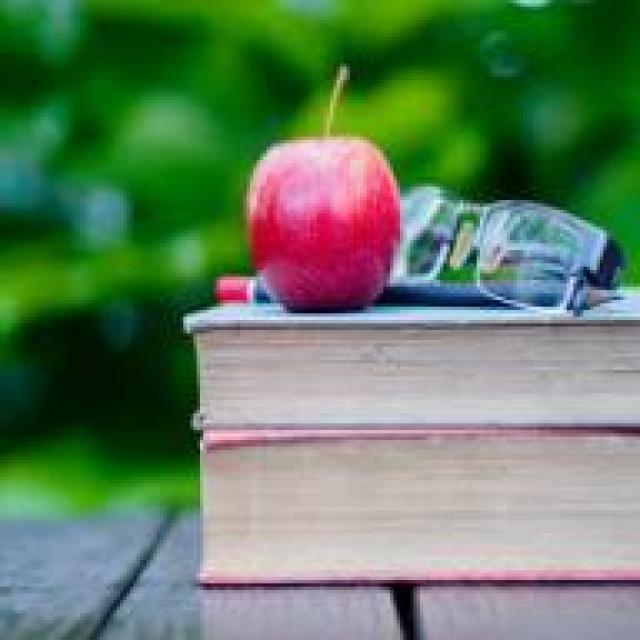apple: (237, 127, 400, 310)
